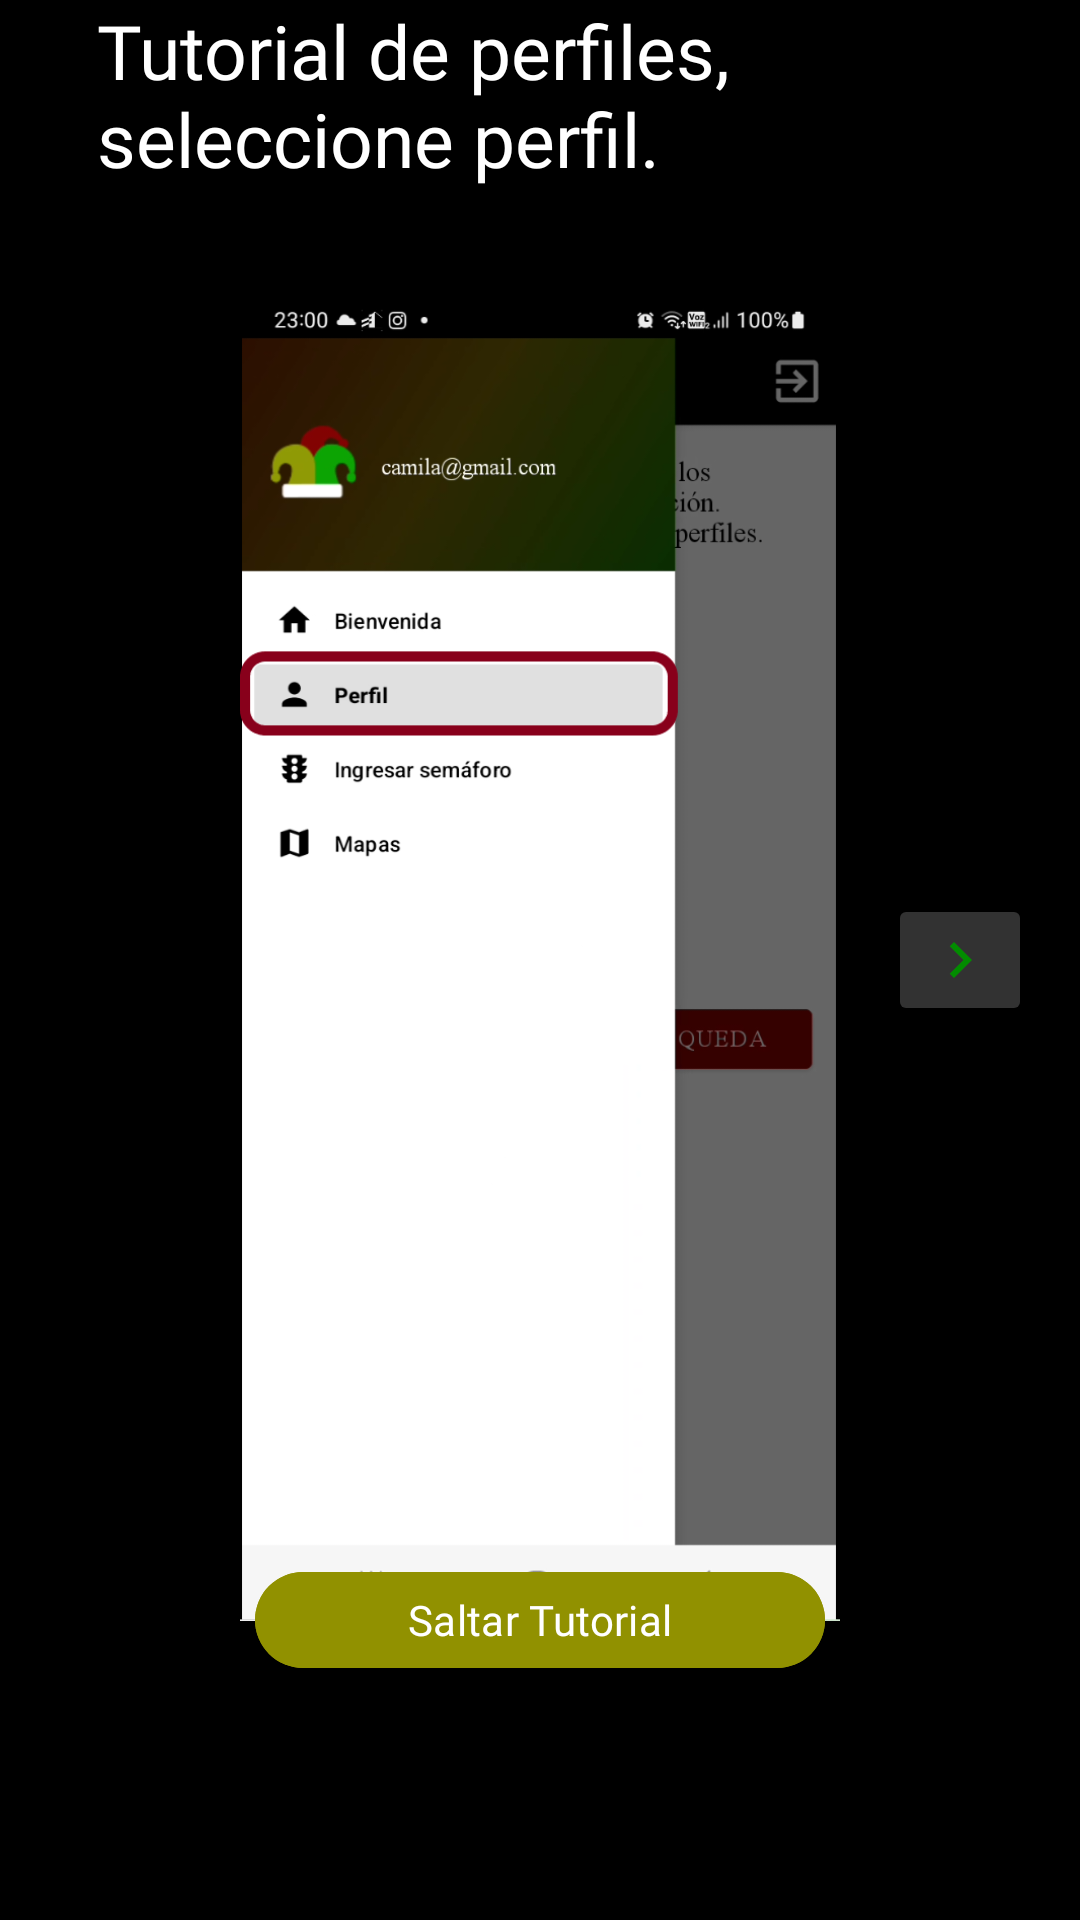

Icons on this 1080×1920 Android screen, each with its box as (x1, y1, x2, y2):
Siguiente: (900, 912, 1020, 1008)
